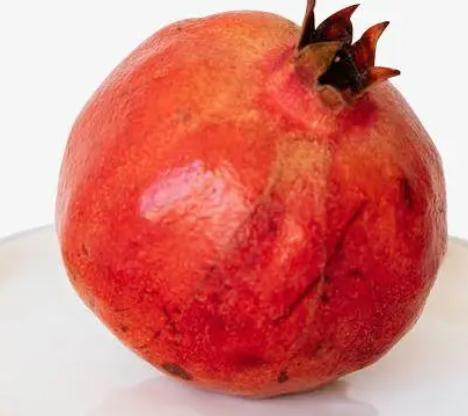pomegranate_B: (53, 1, 447, 401)
